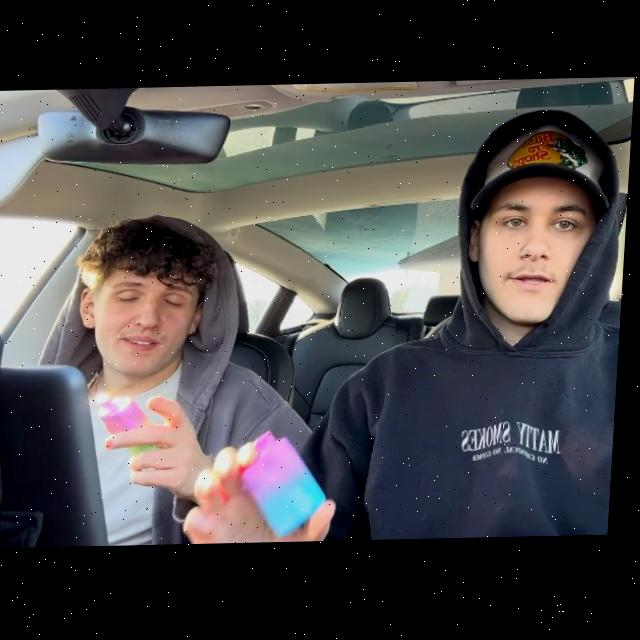vape: (243, 432, 335, 541), (98, 393, 170, 458)
